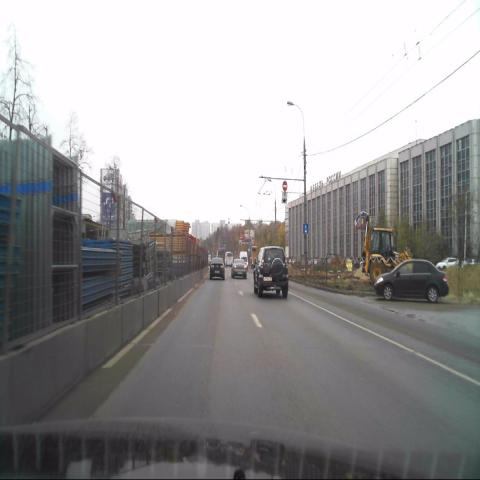5_14: (302, 223, 308, 235)
